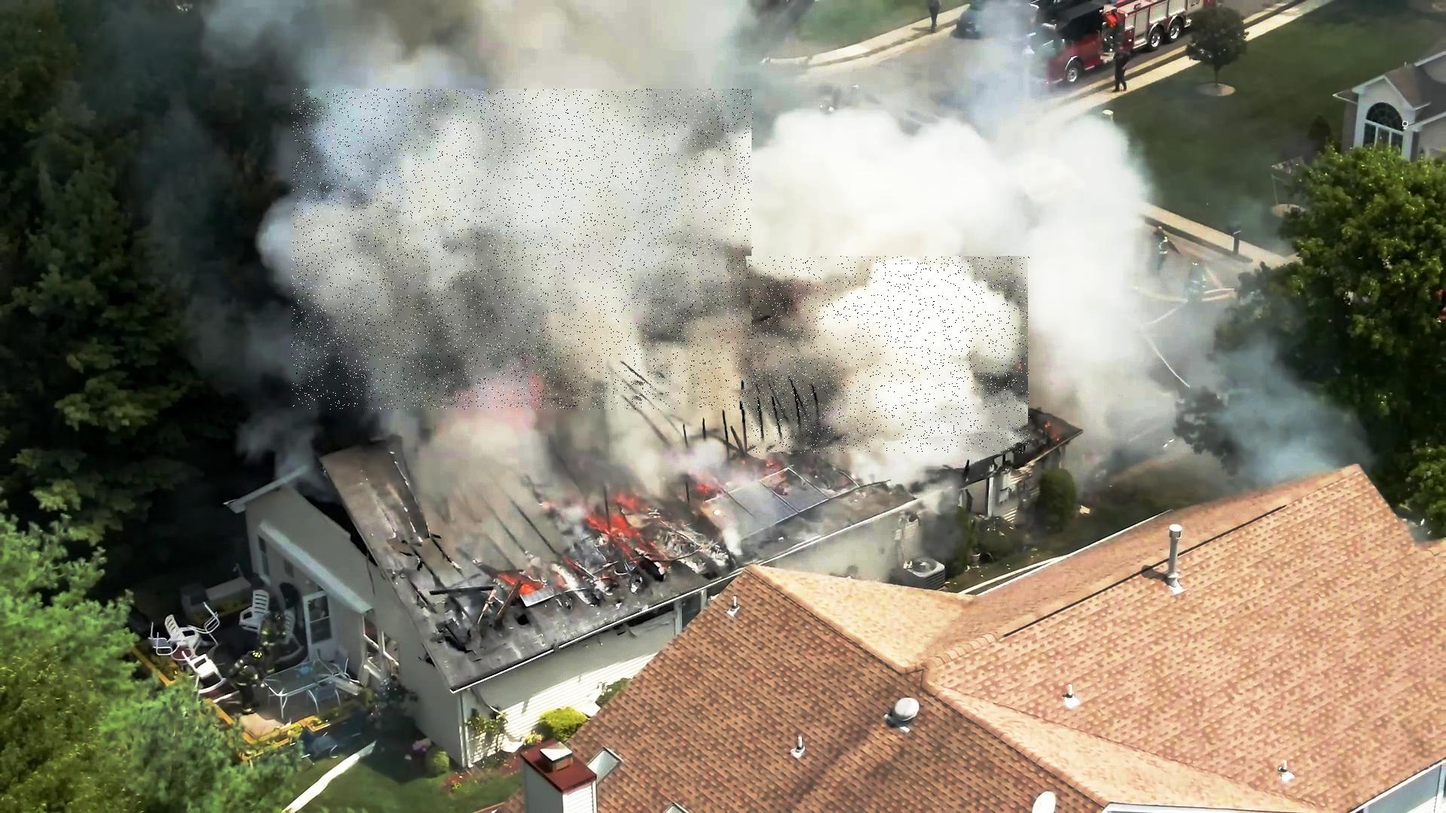smoke: (292, 89, 754, 410), (748, 256, 1030, 454)
